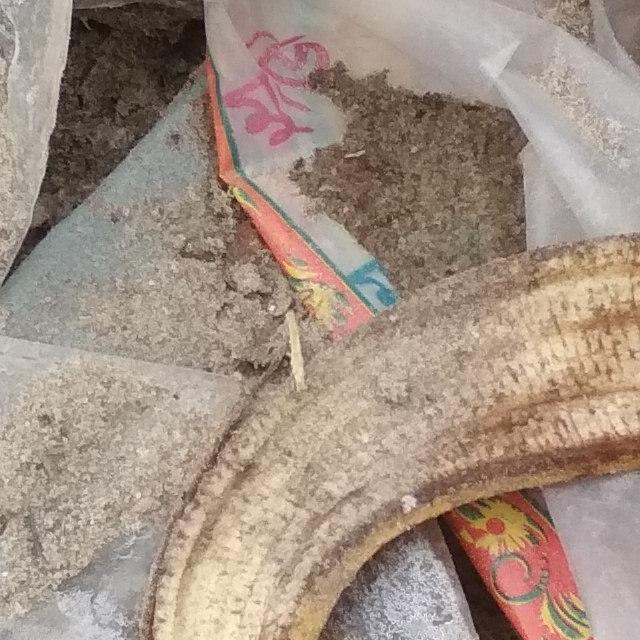food_waste: (104, 180, 640, 640)
plastic: (0, 0, 640, 466)
